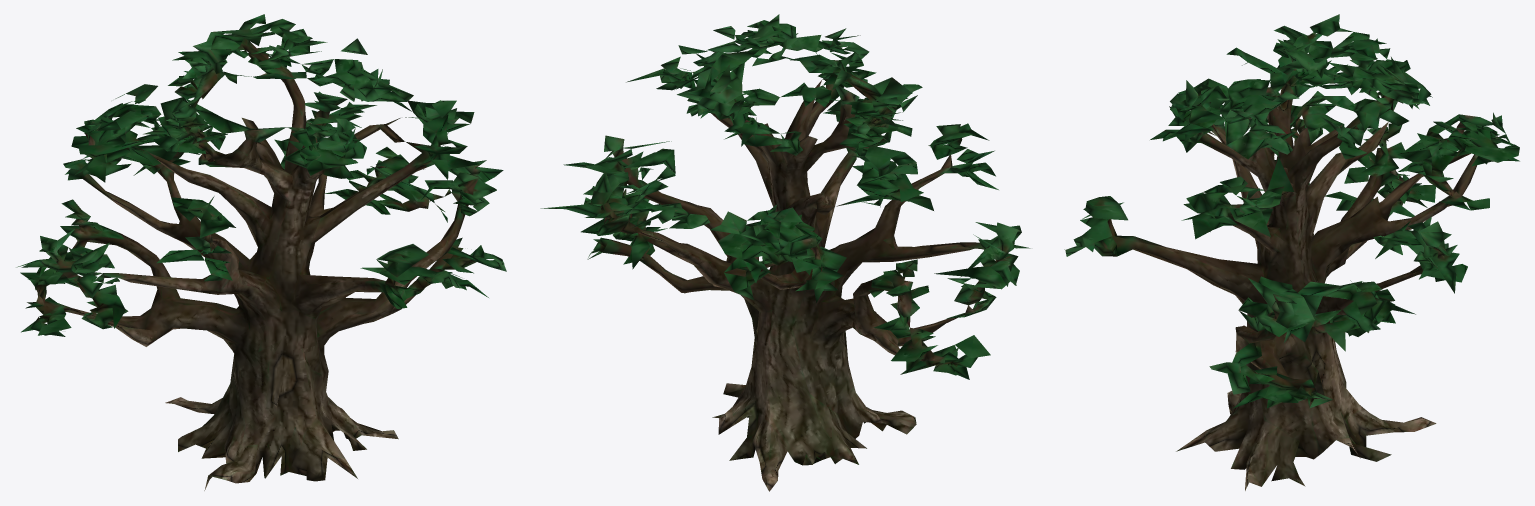
The model's file is tree-1.glb.
The picture shows the model from 3 angles, left to right: view 1: azimuth 30°, elevation 25°; view 2: azimuth 150°, elevation 25°; view 3: azimuth 270°, elevation 25°; orthographic projection.
Parts seen in each view (by area): view 1: geometry_0; view 2: geometry_0; view 3: geometry_0.
Boxes of the visible parts, <box> form: geometry_0: <box>16,14,506,490</box>; geometry_0: <box>540,14,1030,491</box>; geometry_0: <box>1064,14,1519,490</box>.
Bounding box in the file's own units: 0.9235 × 0.7696 × 0.7656.
1 material, 1 textured.
